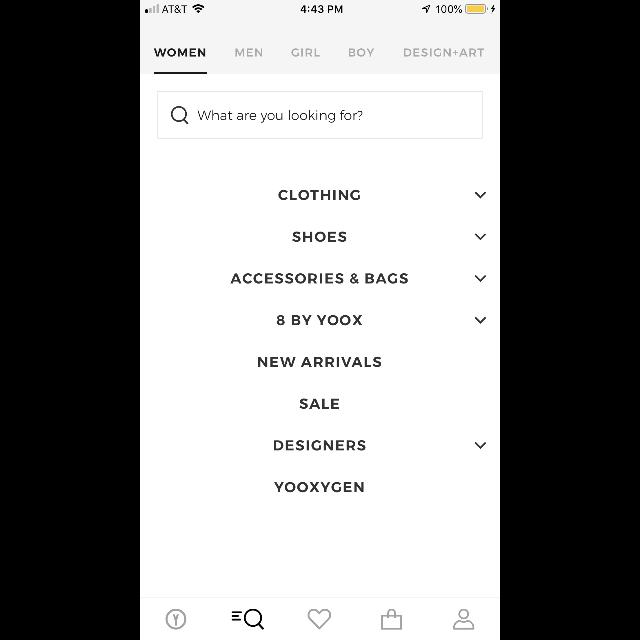icon: (232, 608, 264, 630), (308, 608, 332, 630), (382, 608, 402, 630), (454, 608, 474, 630), (172, 106, 188, 124), (474, 442, 486, 450), (475, 316, 487, 324), (474, 233, 486, 240), (474, 276, 486, 282), (474, 192, 486, 198)
image: (166, 608, 187, 630)
input: (158, 91, 482, 139)
text: (198, 110, 362, 122), (230, 274, 408, 284), (258, 357, 382, 367), (274, 441, 366, 452), (274, 482, 364, 492), (276, 315, 362, 325), (278, 190, 359, 200), (404, 49, 484, 57), (292, 232, 346, 242), (299, 398, 339, 409), (154, 49, 206, 57), (292, 49, 320, 57), (235, 49, 262, 57), (350, 49, 374, 57)
uppertaskbar: (140, 0, 500, 14)
